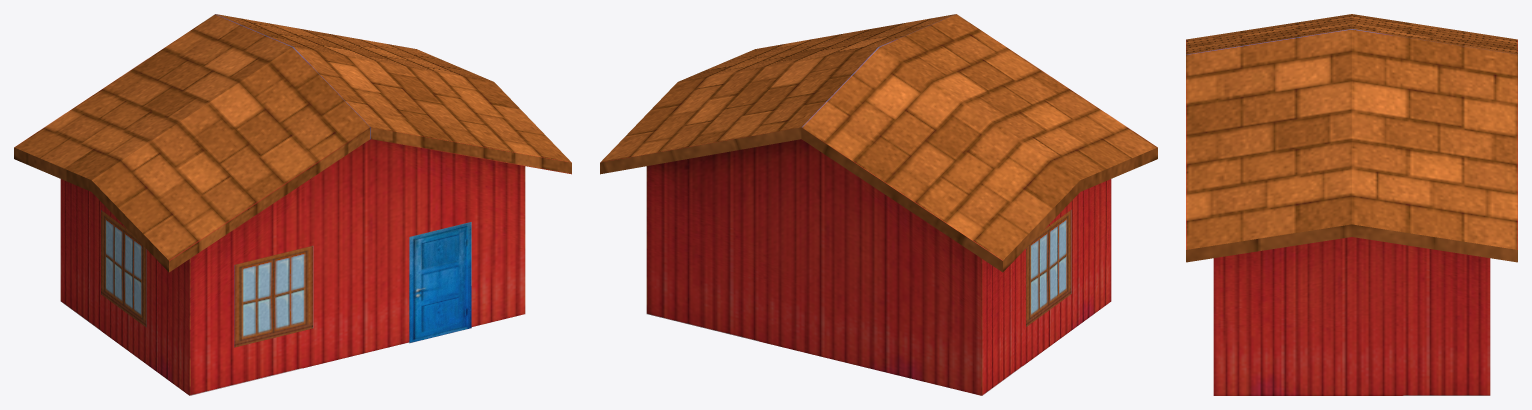
Rendered from House.fbx.
3 renders of one model, left to right at view 1: azimuth 30°, elevation 25°; view 2: azimuth 150°, elevation 25°; view 3: azimuth 270°, elevation 25°, orthographic. The views are drawn at different scales.
Parts seen in each view (by area): view 1: House; view 2: House; view 3: House.
Boxes of the visible parts, x1,y1,x2,y2 form: House: (14,14,571,395); House: (600,14,1157,395); House: (1186,14,1517,395).
Size of the model in its own units: 1426 by 882 by 950.
